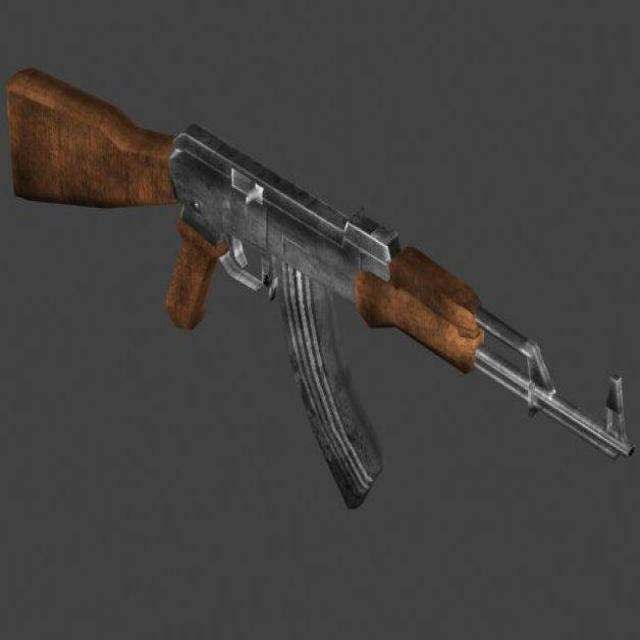Gun: (18, 44, 639, 510)
